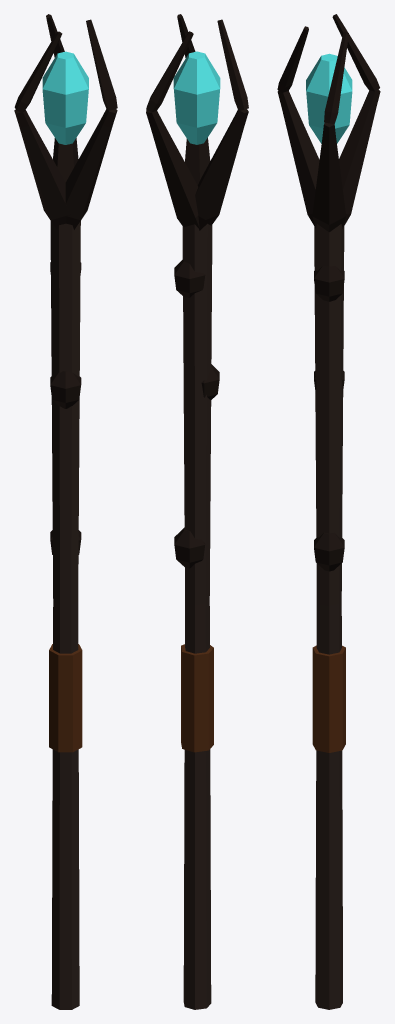
File: wpn_staff_7.glb
3 renders of one model, left to right at view 1: azimuth 90°, elevation 25°; view 2: azimuth 210°, elevation 25°; view 3: azimuth 270°, elevation 25°, orthographic.
Parts seen in each view (by area): view 1: wpn_staff_7; view 2: wpn_staff_7; view 3: wpn_staff_7.
Boxes of the visible parts, x1,y1,x2,y2 form: wpn_staff_7: (14, 14, 117, 1009); wpn_staff_7: (146, 14, 248, 1009); wpn_staff_7: (277, 14, 380, 1009).
Size of the model in its own units: 0.1534 by 1.82 by 0.1738.
